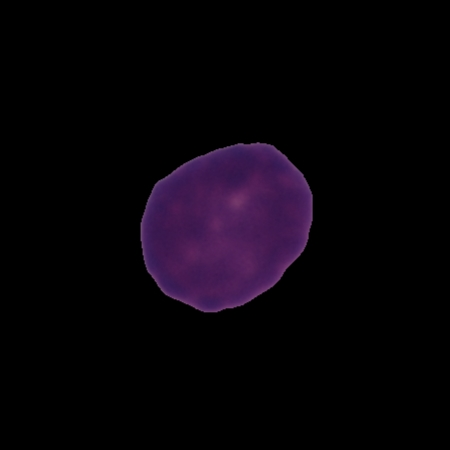HEM: (136, 139, 316, 315)
